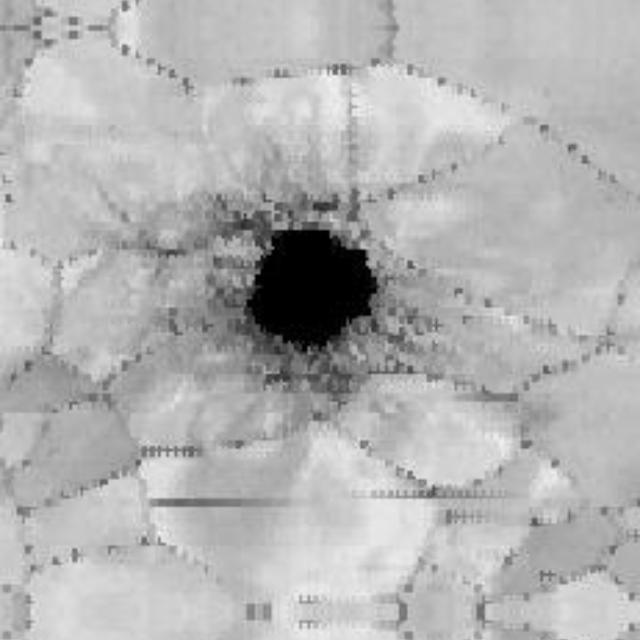good_void: (217, 209, 433, 403)
